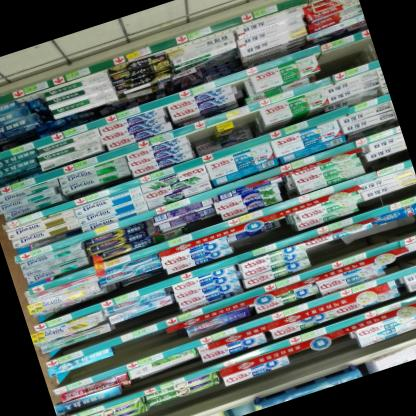empty_space: (113, 319, 175, 365), (318, 32, 374, 78)
